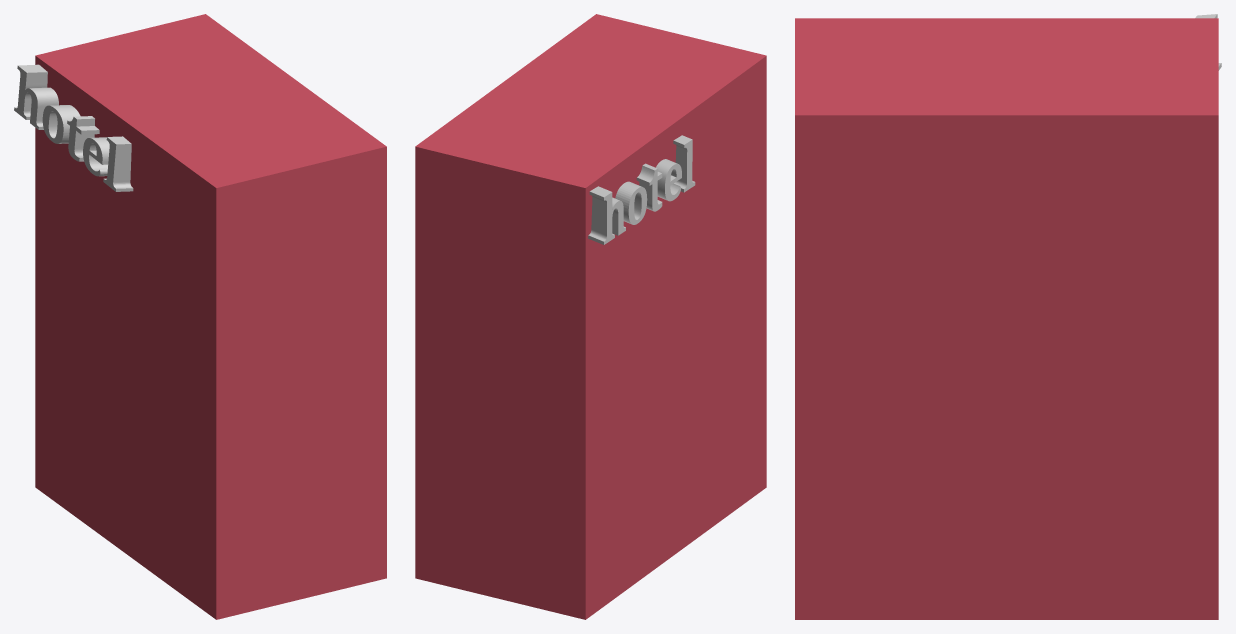
File: asset.glb
3 views of the same model, side by side, from view 1: azimuth 30°, elevation 25°; view 2: azimuth 150°, elevation 25°; view 3: azimuth 270°, elevation 25° (orthographic). The views are drawn at different scales.
Parts seen in each view (by area): view 1: Mesh_Mesh_head_geo.001_lambert2SG.001; view 2: Mesh_Mesh_head_geo.001_lambert2SG.001; view 3: Mesh_Mesh_head_geo.001_lambert2SG.001.
Part boxes in pixels (x1,y1,x2,y2): Mesh_Mesh_head_geo.001_lambert2SG.001: (14, 14, 386, 619); Mesh_Mesh_head_geo.001_lambert2SG.001: (415, 14, 766, 619); Mesh_Mesh_head_geo.001_lambert2SG.001: (795, 14, 1221, 619).
Size of the model in its own units: 77 by 167 by 128.
